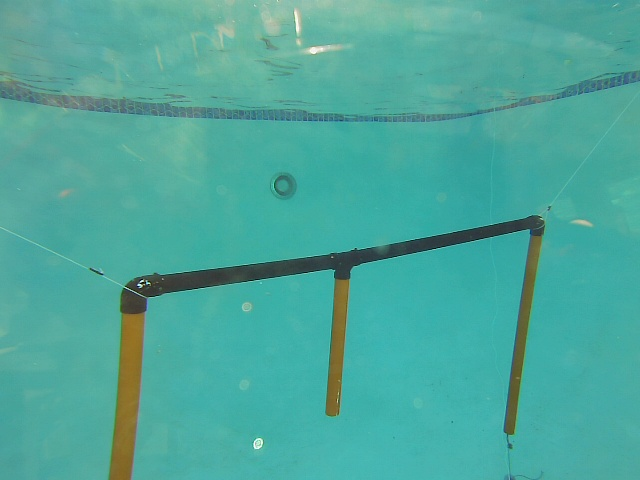Gate: (501, 229, 544, 435), (104, 306, 149, 480), (321, 272, 352, 417)
